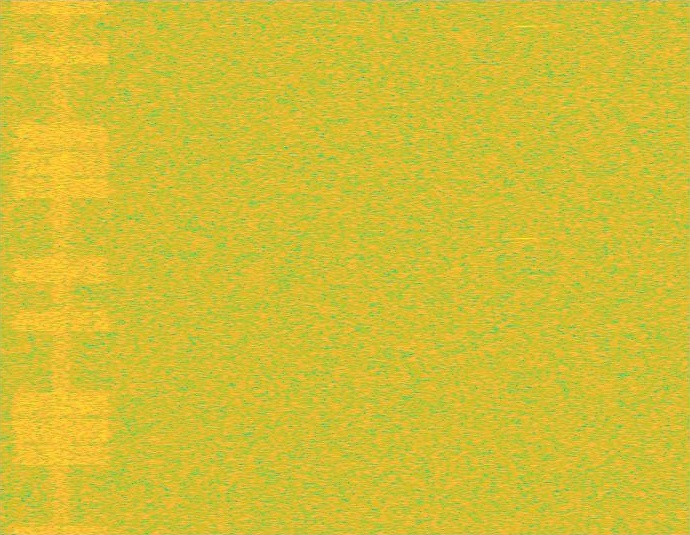DSSS: (49, 0, 73, 534)
LTE: (9, 0, 113, 534)
Radar: (519, 0, 533, 534)
